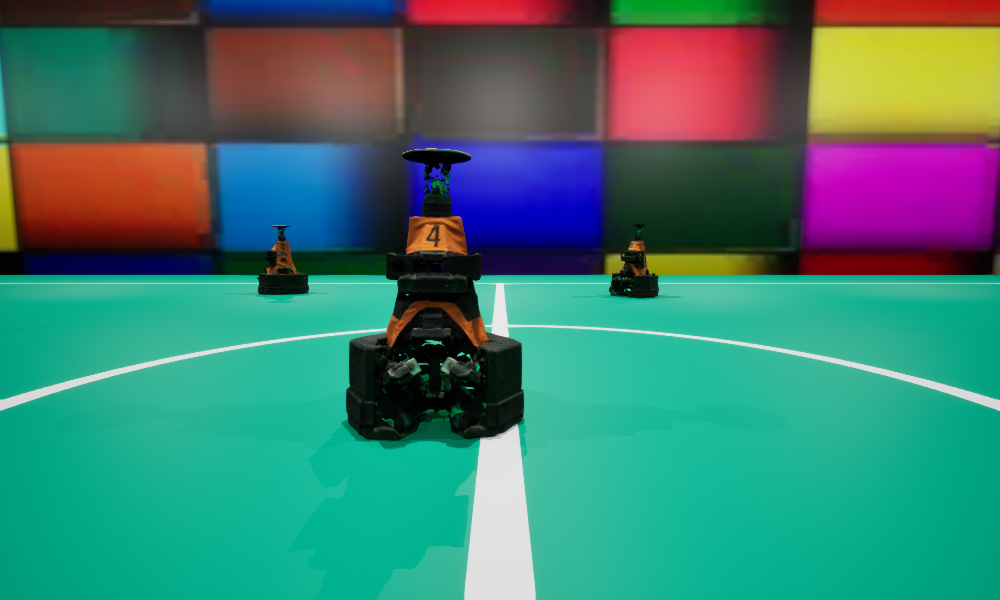o: (346, 148, 523, 440), (609, 224, 658, 297), (257, 225, 308, 294)
